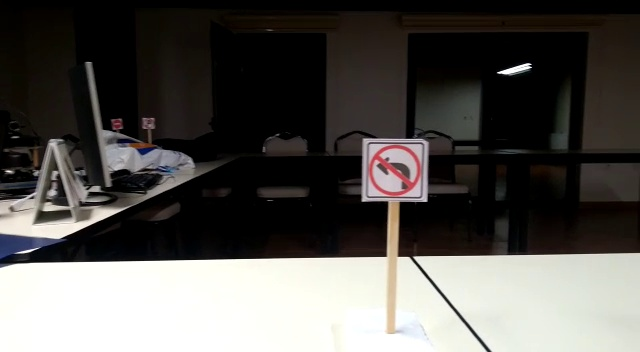sola_donulmez: (370, 141, 427, 202)
